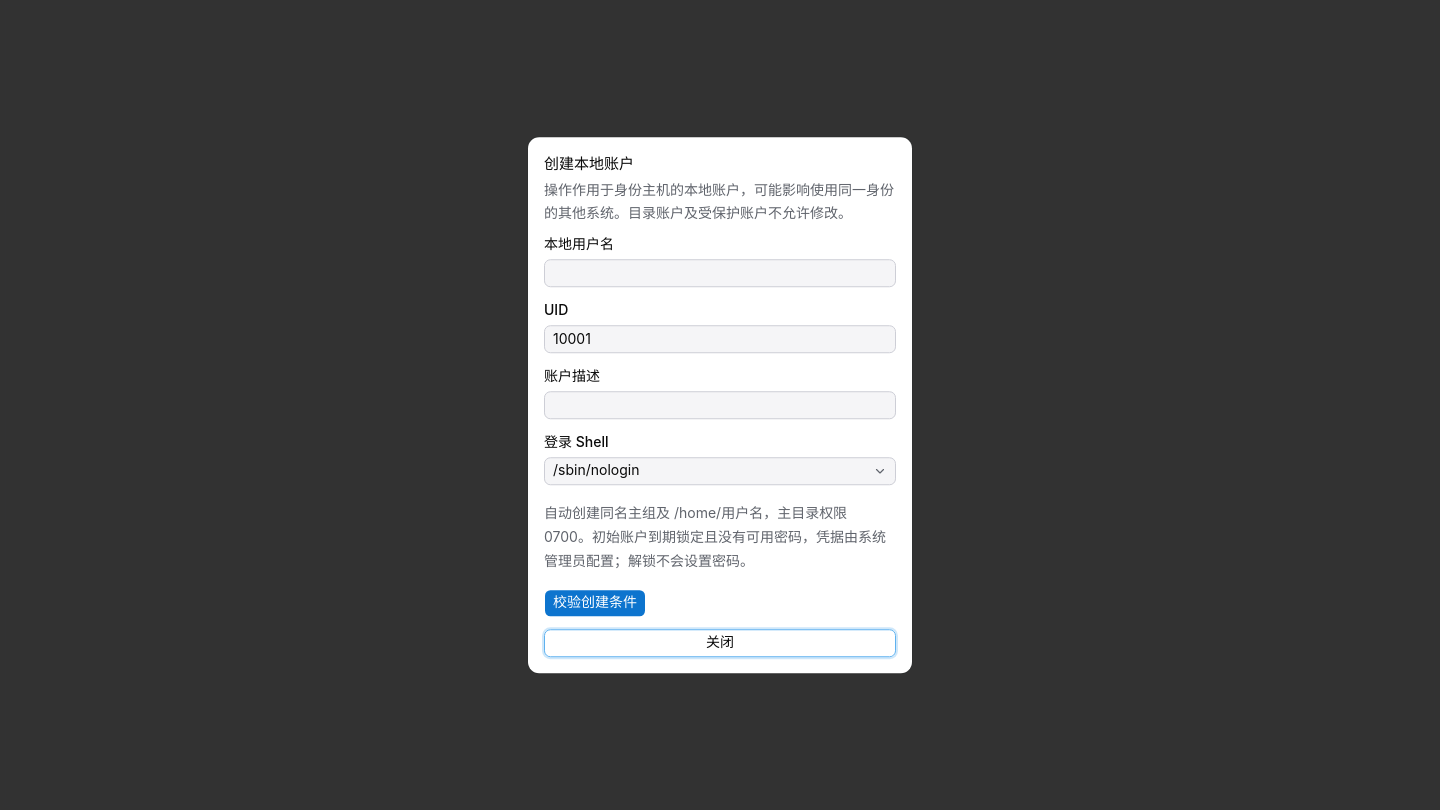
Test: 创建先校验，再要求用户名和原因，只发送一次实际写入
In the field labelled "本地用户名": (720, 273) [544, 259, 896, 287], type "worker"
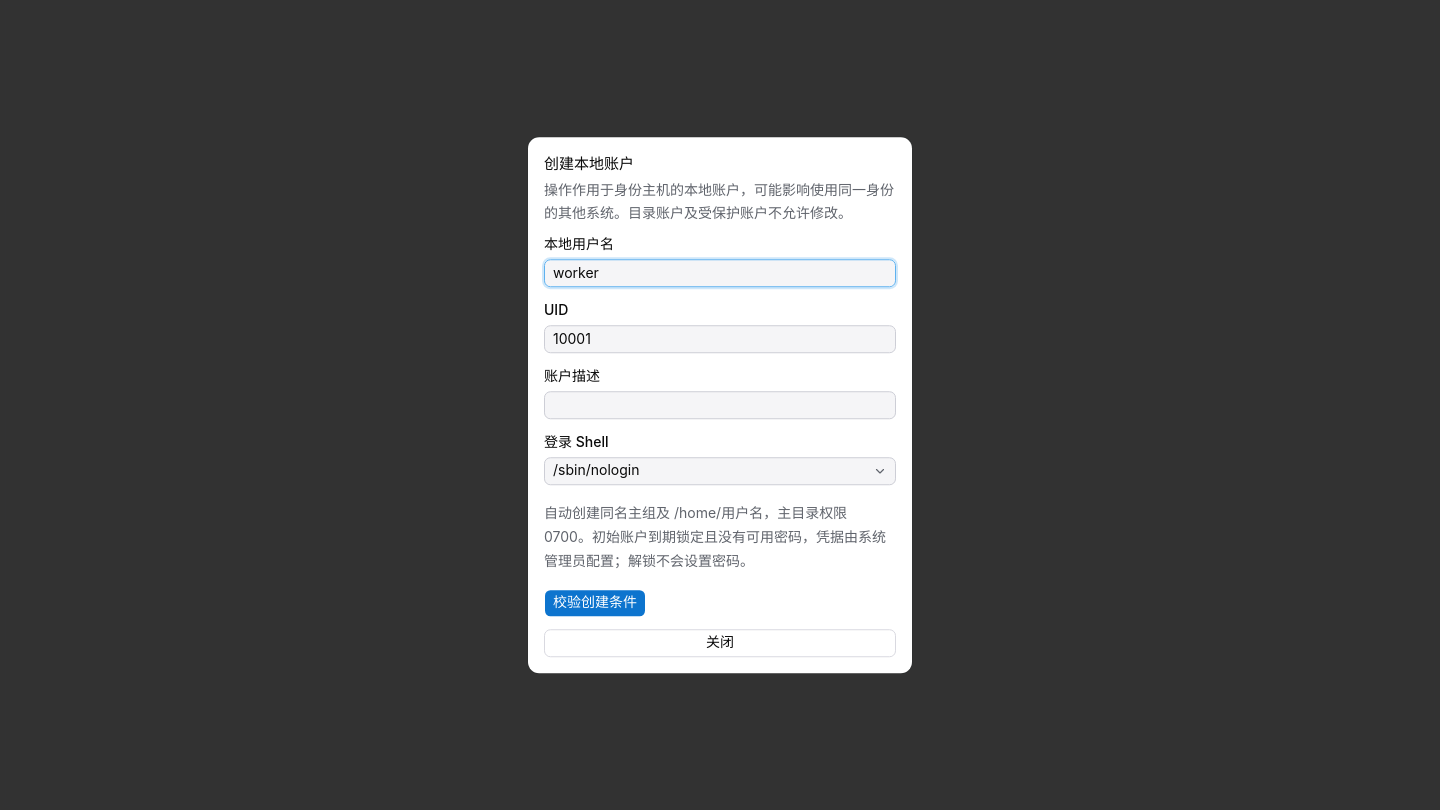
Click the button "校验创建条件": (595, 603) [544, 589, 646, 617]
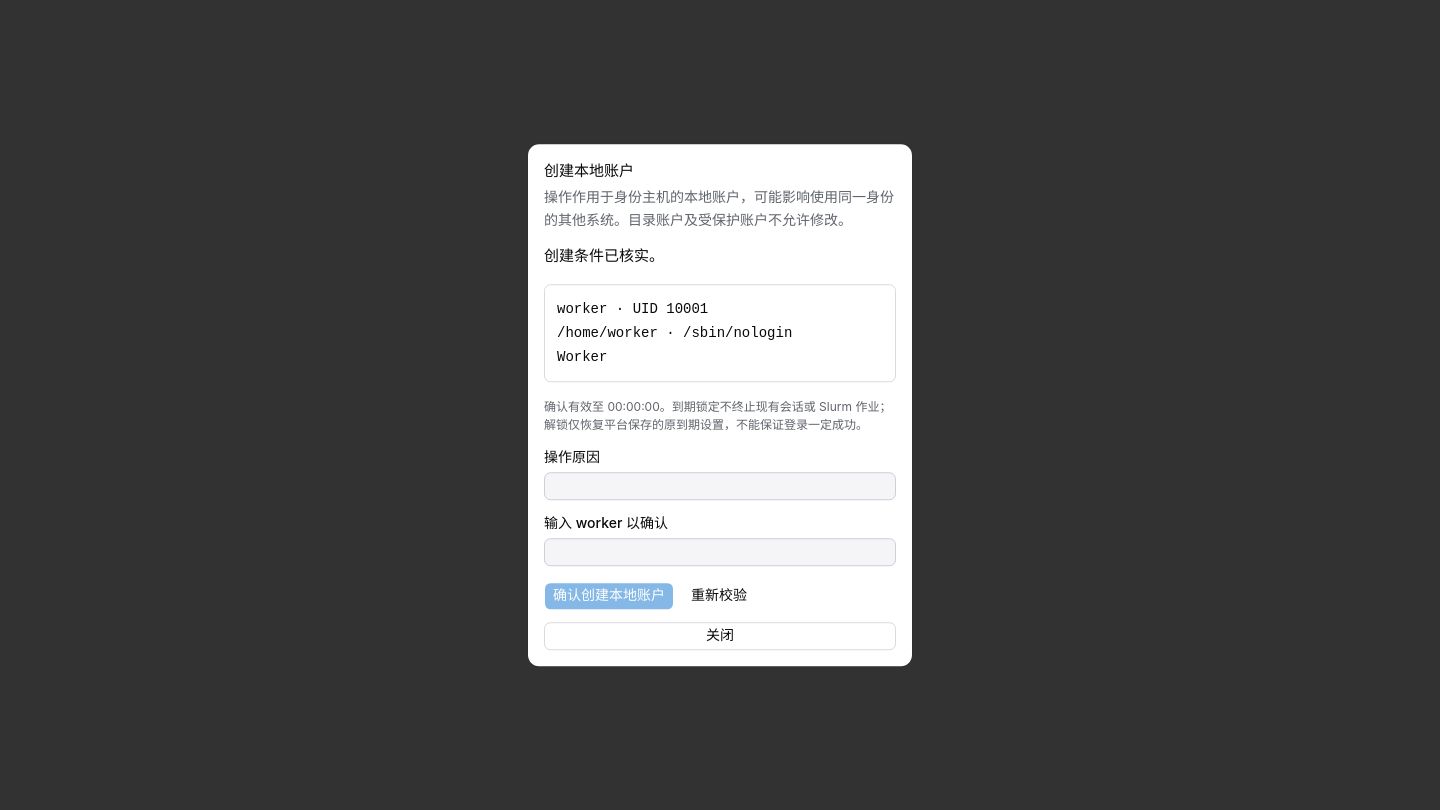
Expected: the text "创建条件已核实。" is shown, [544, 246, 664, 265]
Expected: the button "确认创建本地账户" is disabled, [544, 582, 674, 610]
In the field labelled "操作原因": (720, 486) [544, 472, 896, 500], type "开发验证"
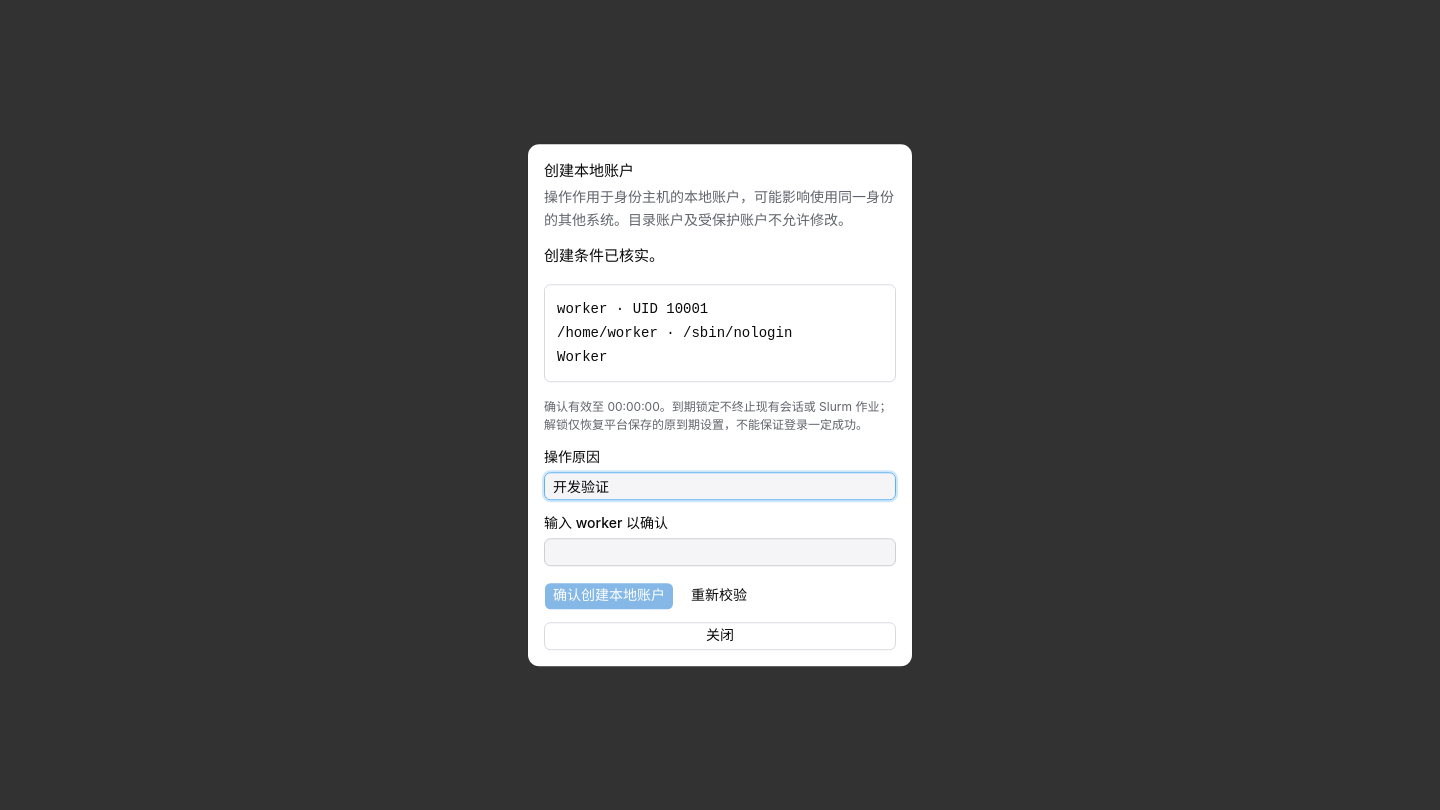
In the field labelled "输入 worker 以确认": (720, 552) [544, 538, 896, 566], type "worker"
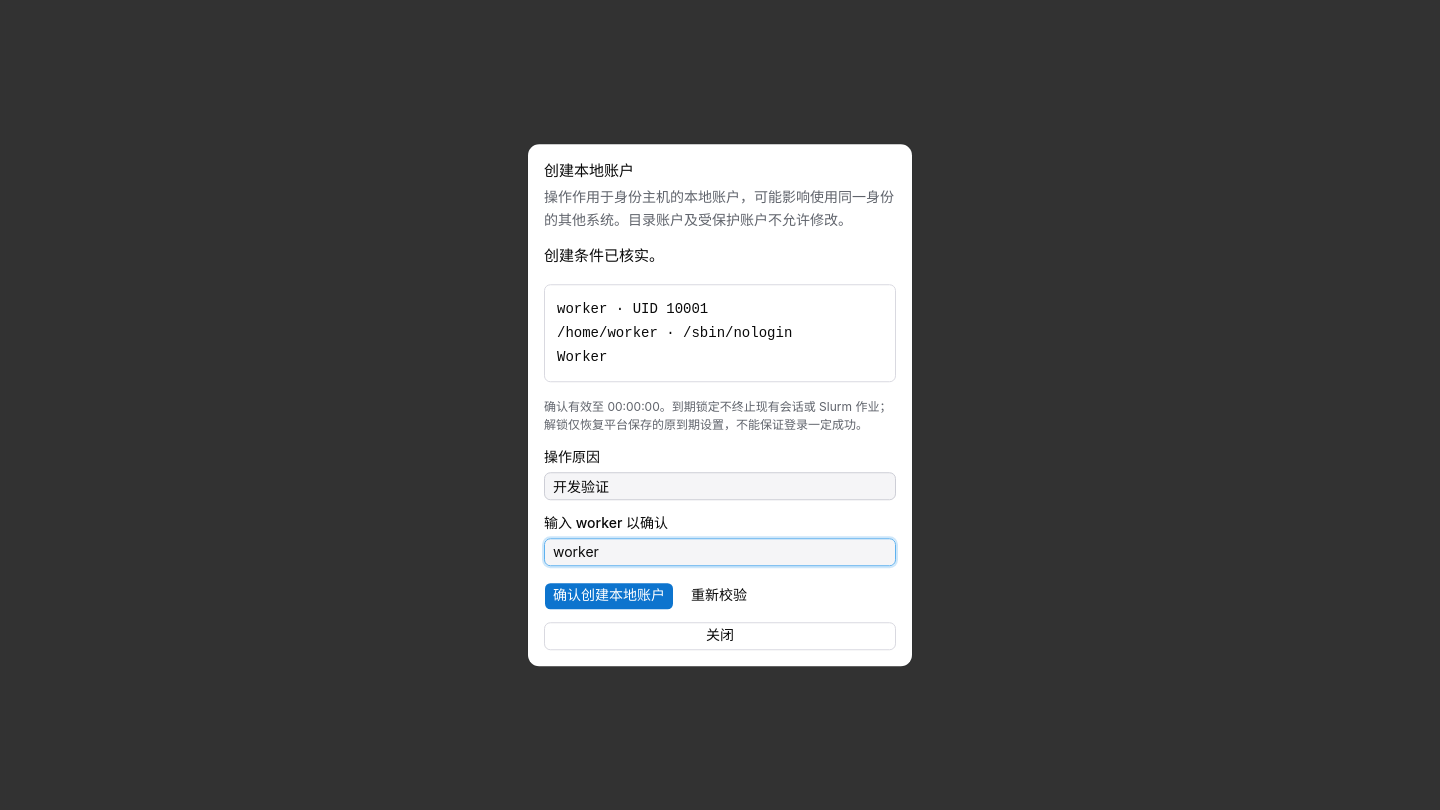
Click the button "确认创建本地账户": (609, 596) [544, 582, 674, 610]
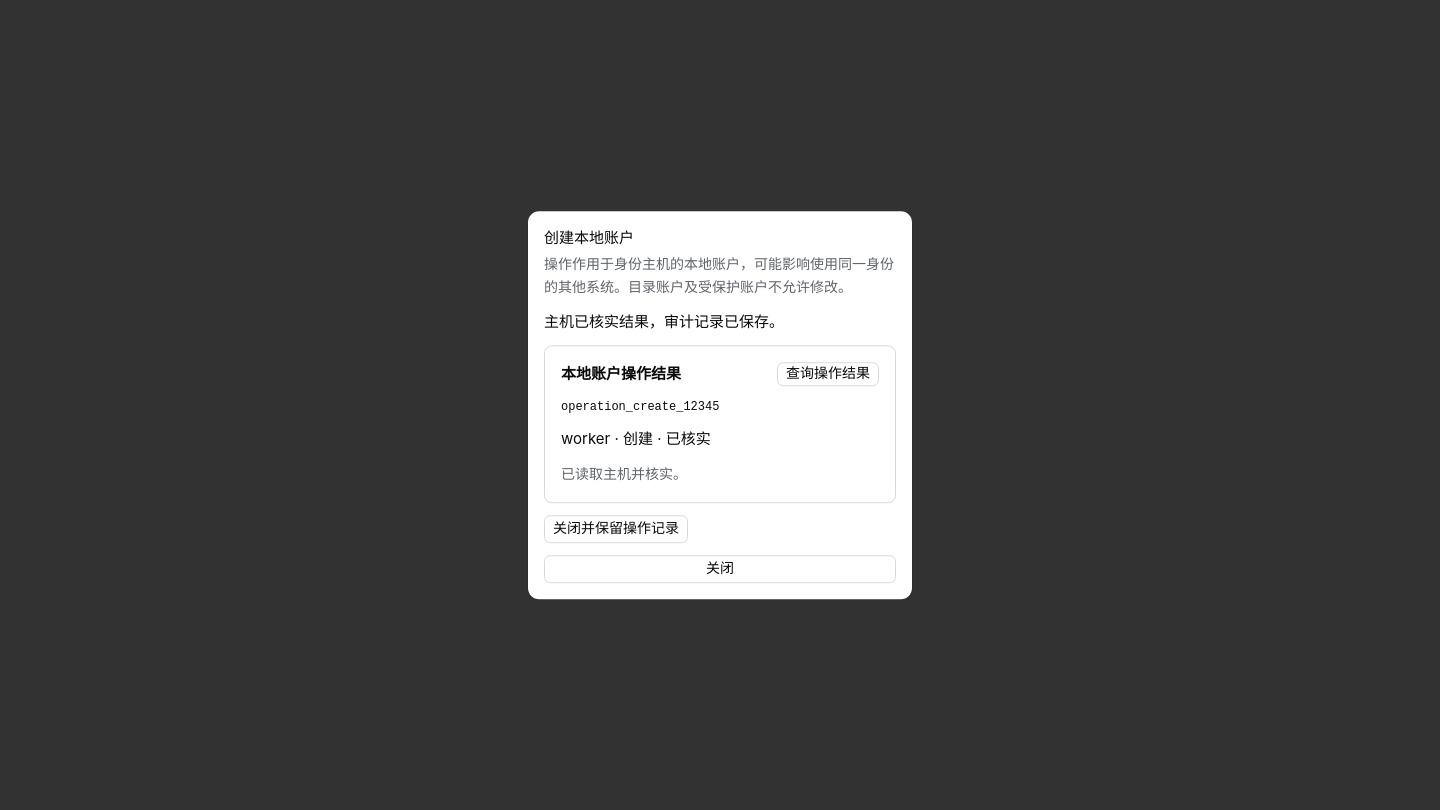
Expected: the text "已读取主机并核实。" is shown, [561, 465, 687, 482]
